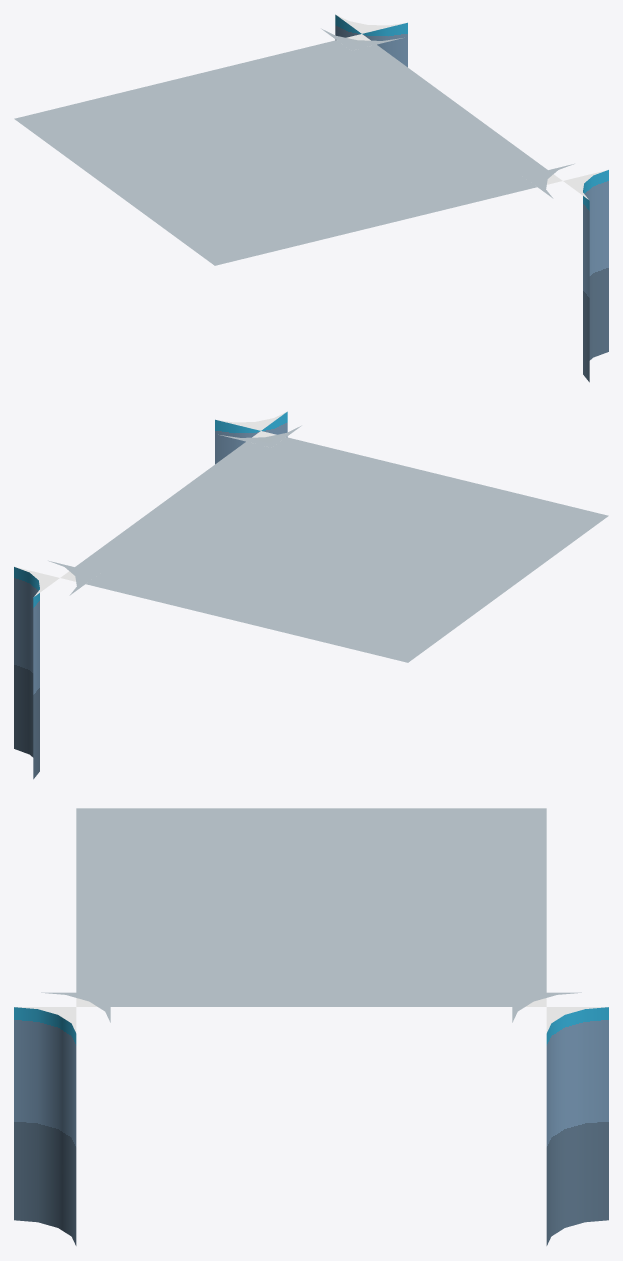
File: TileFace1111Corner0110.fbx
3 views of the same model, one above another, from view 1: azimuth 30°, elevation 25°; view 2: azimuth 150°, elevation 25°; view 3: azimuth 270°, elevation 25° (orthographic). The views are drawn at different scales.
Parts seen in each view (by area): view 1: Face1111Corner0110v1_; view 2: Face1111Corner0110v1_; view 3: Face1111Corner0110v1_.
Part boxes in pixels (x1,y1,x2,y2): Face1111Corner0110v1_: (14, 14, 608, 382); Face1111Corner0110v1_: (14, 411, 608, 779); Face1111Corner0110v1_: (14, 808, 608, 1245).
Bounding box in the file's own units: 113 × 50.01 × 126.
